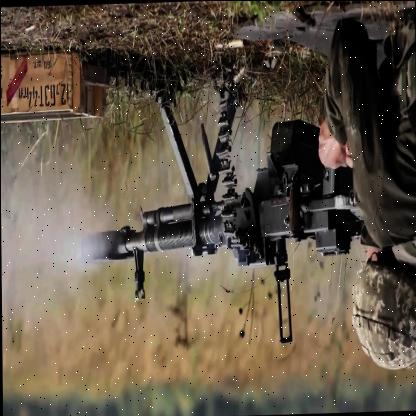rifle: (86, 168, 340, 282)
